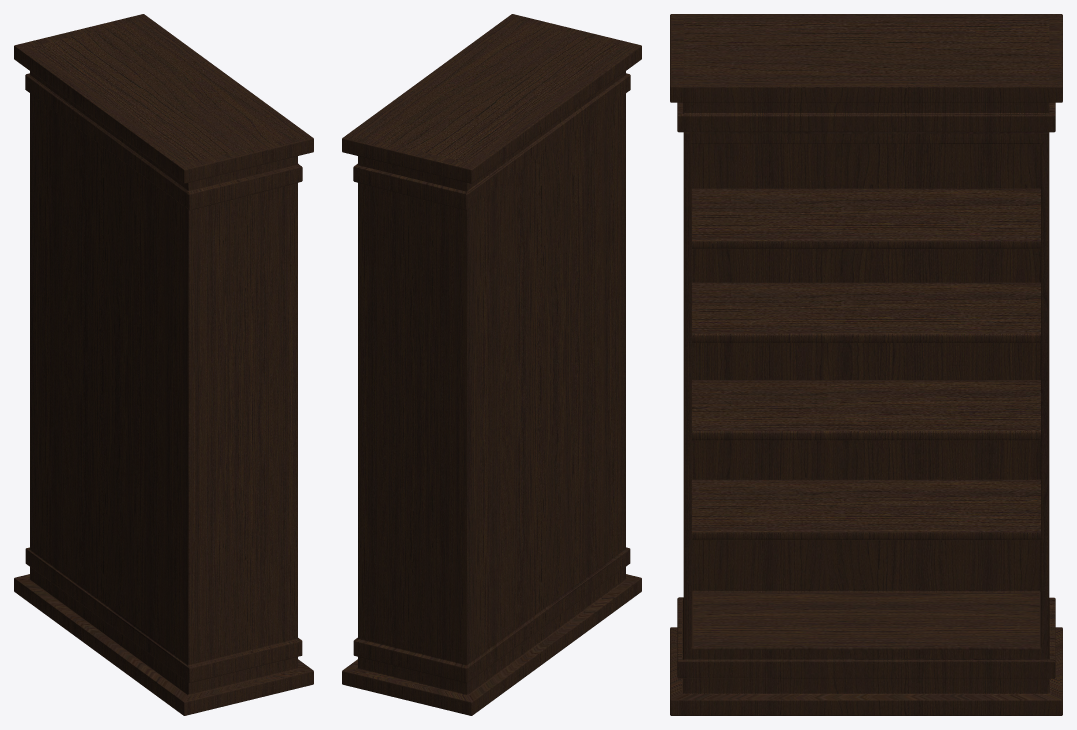
The model's file is bookshelf.fbx.
The picture shows the model from 3 angles, left to right: view 1: azimuth 30°, elevation 25°; view 2: azimuth 150°, elevation 25°; view 3: azimuth 270°, elevation 25°; orthographic projection. The views are drawn at different scales.
Parts seen in each view (by area): view 1: BookshelfCombined; view 2: BookshelfCombined; view 3: BookshelfCombined.
Part boxes in pixels (x1,y1,x2,y2): BookshelfCombined: [14, 14, 313, 715]; BookshelfCombined: [342, 14, 641, 715]; BookshelfCombined: [670, 14, 1062, 715].
Size of the model in its own units: 0.474 by 1.9 by 1.07.
1 material, 1 textured.
